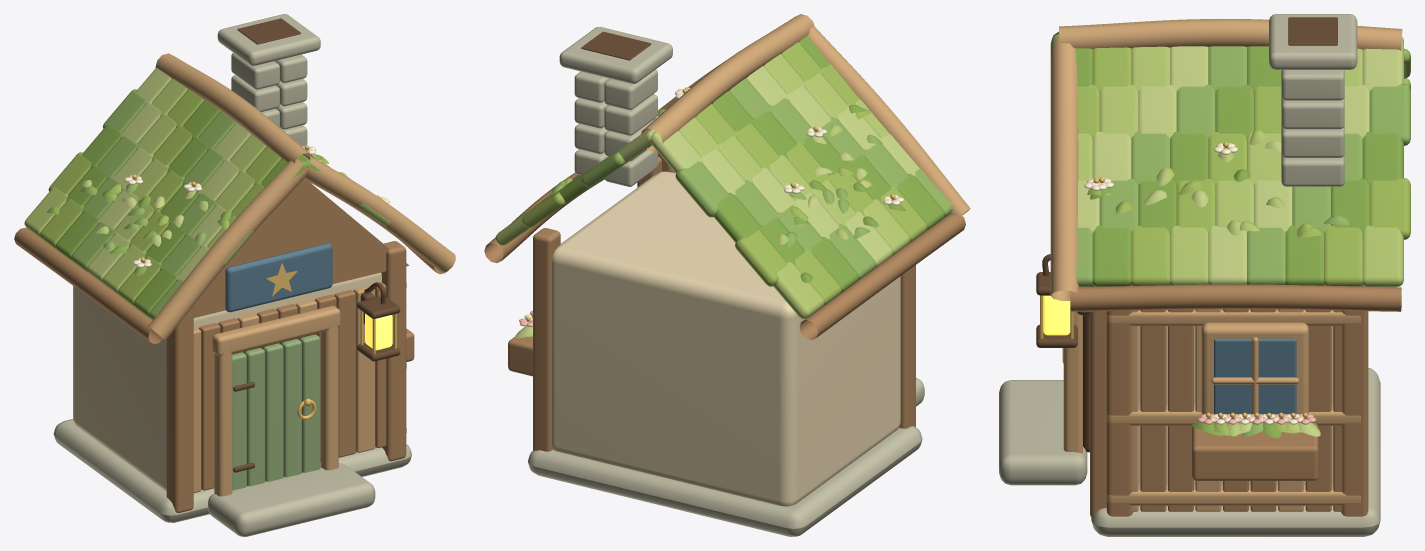
3 views of the same model, side by side, from view 1: azimuth 30°, elevation 25°; view 2: azimuth 150°, elevation 25°; view 3: azimuth 270°, elevation 25° (orthographic). The views are drawn at different scales.
Parts seen in each view (by area): view 1: Cream cottage body, Front gable, Stone doorstep, Stone footing, Corner timber, Carved eave, Star plaque, Corner timber.001, Roof ridge, Carved eave.001, Roof verge, Door lintel (+61 smaller); view 2: Cream cottage body, Stone footing, Roof ridge, Side timber.001, Roof verge, Carved eave, Chimney crown, Corner timber, Moss roof shingle.017, Moss roof shingle.035, Moss roof shingle.044, Chimney stone.004 (+51 smaller); view 3: Stone footing, Roof verge.001, Stone doorstep, Carved eave.001, Roof ridge, Window flower box, Side window glass, Side timber.001, Side timber, Side weatherboard.001, Side weatherboard.002, Side window frame (+65 smaller).
Part boxes in pixels (bbox=[...]): Cream cottage body: bbox=[73, 272, 381, 491]; Front gable: bbox=[193, 179, 408, 317]; Stone doorstep: bbox=[208, 463, 375, 536]; Stone footing: bbox=[53, 419, 411, 522]; Corner timber: bbox=[166, 306, 193, 512]; Carved eave: bbox=[148, 159, 307, 339]; Star plaque: bbox=[225, 243, 332, 312]; Corner timber.001: bbox=[381, 241, 406, 461]; Roof ridge: bbox=[155, 53, 313, 163]; Carved eave.001: bbox=[302, 153, 455, 272]; Roof verge: bbox=[14, 227, 163, 343]; Door lintel: bbox=[212, 305, 340, 356]; Cream cottage body: bbox=[552, 171, 900, 506]; Stone footing: bbox=[528, 426, 922, 536]; Roof ridge: bbox=[640, 14, 814, 151]; Side timber.001: bbox=[533, 228, 560, 451]; Roof verge: bbox=[799, 214, 965, 339]; Carved eave: bbox=[808, 26, 970, 217]; Chimney crown: bbox=[559, 27, 672, 83]; Corner timber: bbox=[899, 265, 915, 428]; Moss roof shingle.017: bbox=[675, 161, 727, 217]; Moss roof shingle.035: bbox=[735, 230, 787, 286]; Moss roof shingle.044: bbox=[773, 262, 824, 318]; Chimney stone.004: bbox=[604, 94, 657, 135]; Stone footing: bbox=[1091, 368, 1380, 536]; Roof verge.001: bbox=[1070, 284, 1401, 311]; Stone doorstep: bbox=[999, 380, 1087, 485]; Carved eave.001: bbox=[1050, 38, 1079, 300]; Roof ridge: bbox=[1059, 19, 1402, 50]; Window flower box: bbox=[1192, 422, 1318, 480]; Side window glass: bbox=[1214, 338, 1296, 418]; Side timber.001: bbox=[1341, 285, 1368, 516]; Side timber: bbox=[1106, 285, 1133, 516]; Side weatherboard.001: bbox=[1140, 310, 1166, 511]; Side weatherboard.002: bbox=[1168, 309, 1193, 511]; Side window frame: bbox=[1201, 322, 1308, 419].
Size of the model in its own units: 1.66 by 1.91 by 1.49.
